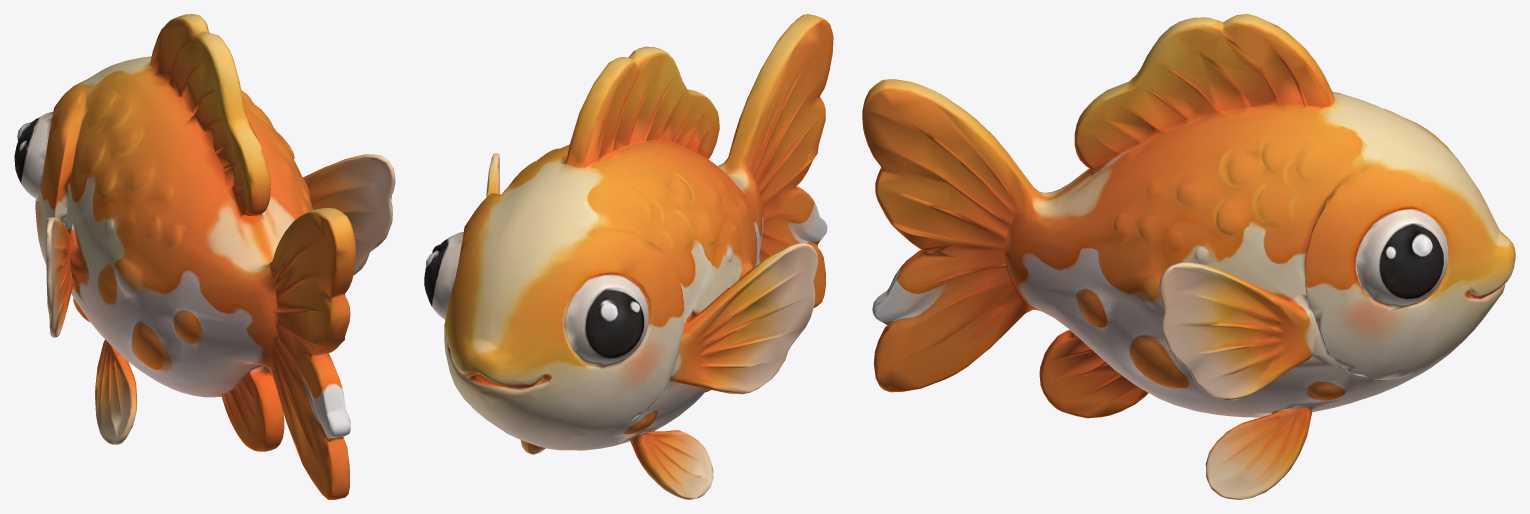
The model's file is fish.glb.
The picture shows the model from 3 angles, left to right: view 1: azimuth 30°, elevation 25°; view 2: azimuth 150°, elevation 25°; view 3: azimuth 270°, elevation 25°; orthographic projection. The views are drawn at different scales.
Parts seen in each view (by area): view 1: tripo_node_0226e889-1e93-471e-b604-b44be4fafa49; view 2: tripo_node_0226e889-1e93-471e-b604-b44be4fafa49; view 3: tripo_node_0226e889-1e93-471e-b604-b44be4fafa49.
Part boxes in pixels (x1,y1,x2,y2): tripo_node_0226e889-1e93-471e-b604-b44be4fafa49: [14, 14, 395, 499]; tripo_node_0226e889-1e93-471e-b604-b44be4fafa49: [424, 14, 833, 499]; tripo_node_0226e889-1e93-471e-b604-b44be4fafa49: [862, 14, 1515, 499].
Size of the model in its own units: 0.8564 by 1 by 1.35.
Materials: 1 (1 with a texture image).
